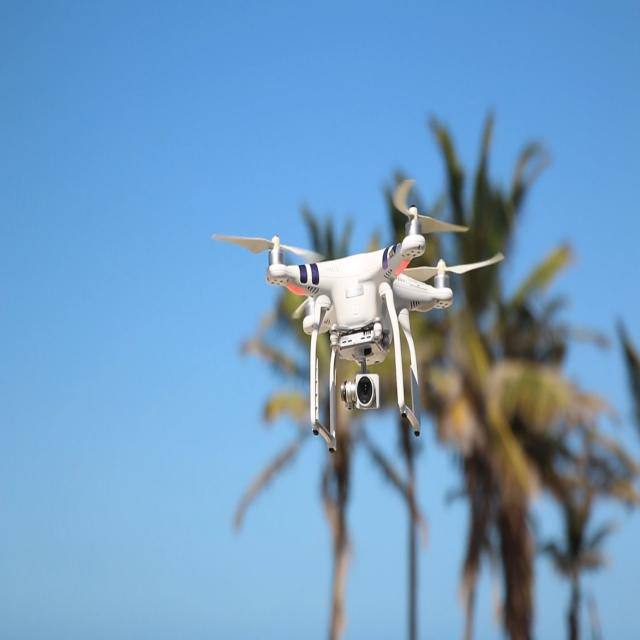Drone: (195, 192, 494, 463)
